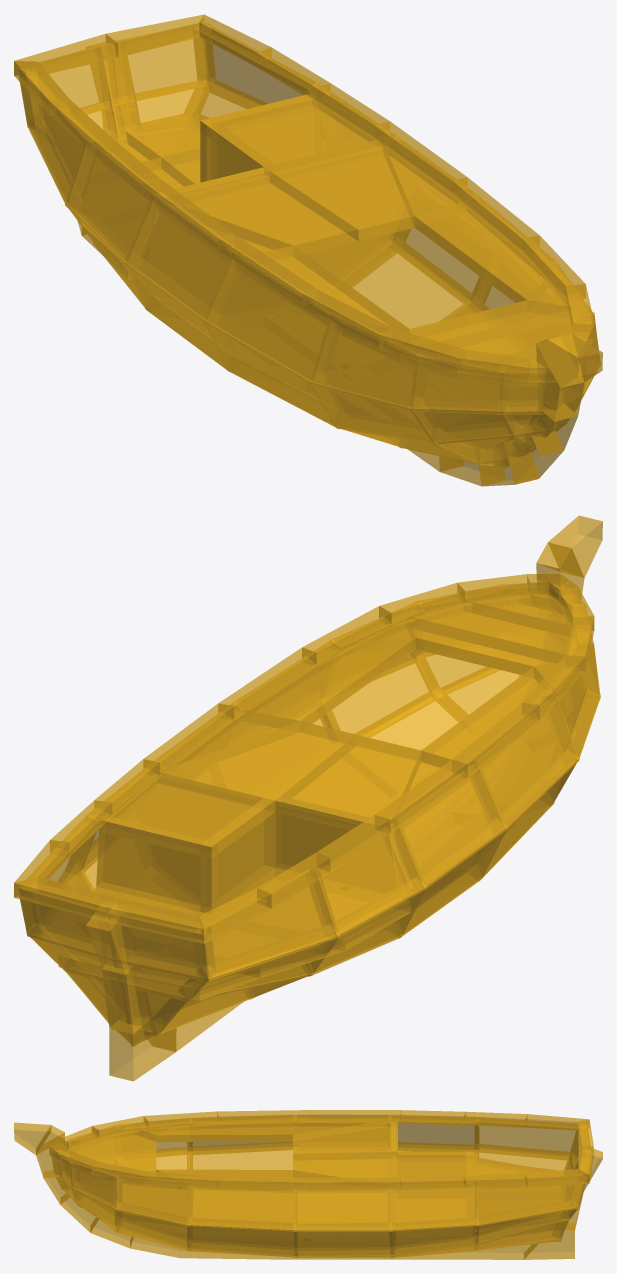
File: SM_Veh_Ship_S_Hull_01_Collision.fbx
3 views of the same model, one above another, from view 1: azimuth 30°, elevation 25°; view 2: azimuth 150°, elevation 25°; view 3: azimuth 270°, elevation 25° (orthographic). The views are drawn at different scales.
Parts seen in each view (by area): view 1: SM_Veh_Ship_S_Hull_01_Collision; view 2: SM_Veh_Ship_S_Hull_01_Collision; view 3: SM_Veh_Ship_S_Hull_01_Collision.
Part boxes in pixels (left/top/right/bottom): SM_Veh_Ship_S_Hull_01_Collision: left=14, top=14, right=602, bottom=486; SM_Veh_Ship_S_Hull_01_Collision: left=14, top=515, right=602, bottom=1081; SM_Veh_Ship_S_Hull_01_Collision: left=14, top=1110, right=602, bottom=1259.
Size of the model in its own units: 647 by 445 by 1820.
